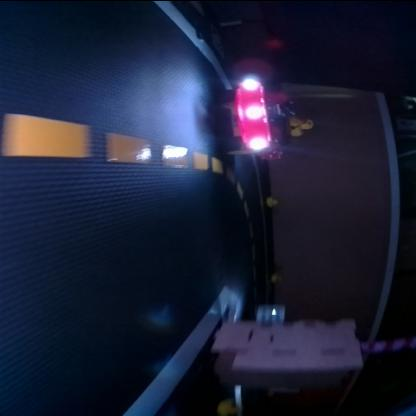Duckie: (292, 116, 313, 134), (218, 397, 236, 414), (268, 196, 276, 204), (274, 274, 282, 280)
Duckiebot: (222, 79, 292, 157)
QR code: (213, 24, 225, 57)
